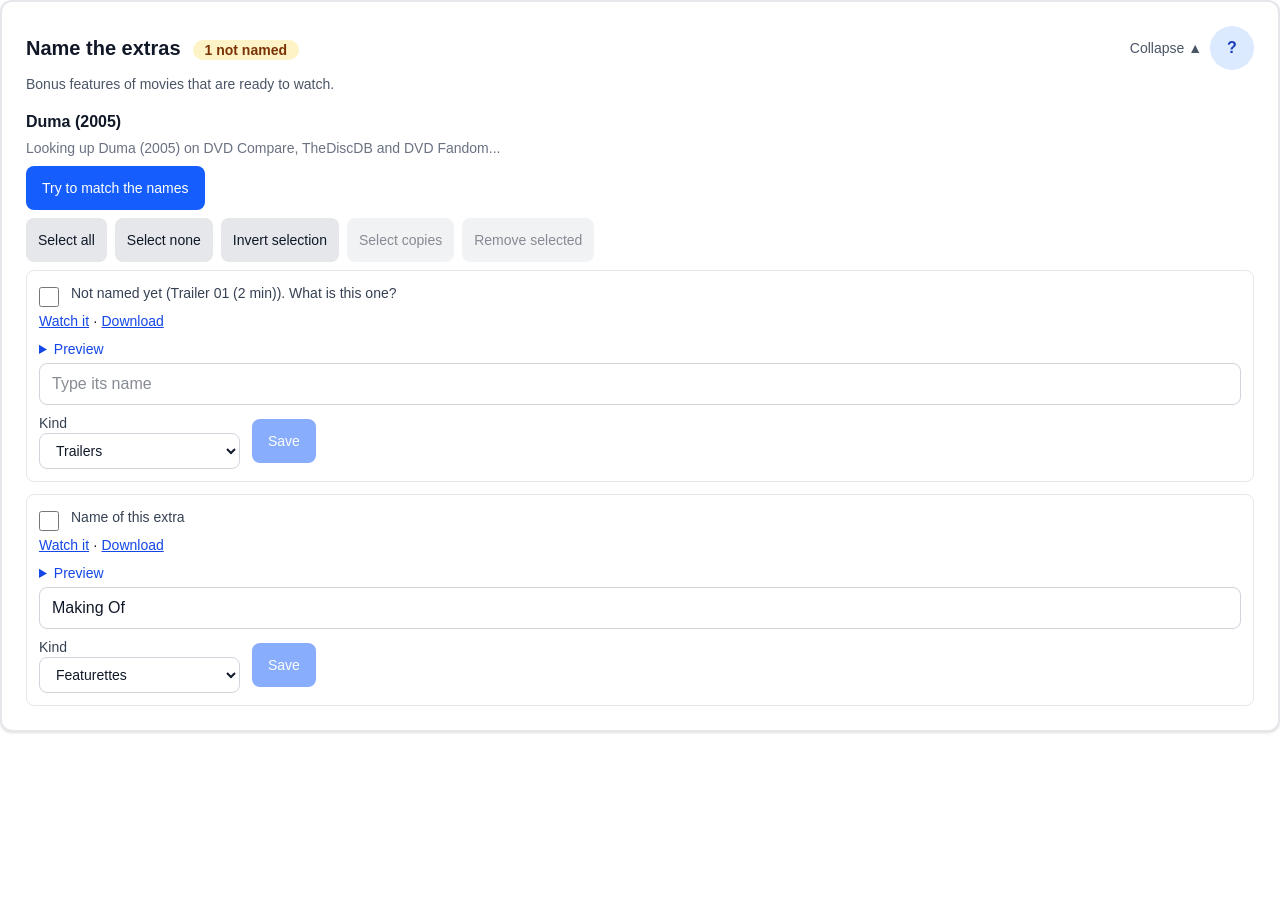
it: the "Name the extras" section › Try to match the names starts the listening and shows how far it has got
What coordinates should you click on to do the following:
click the button "Try to match the names"
I would click on:
 (115, 188)
Its box is [26,166,204,210].
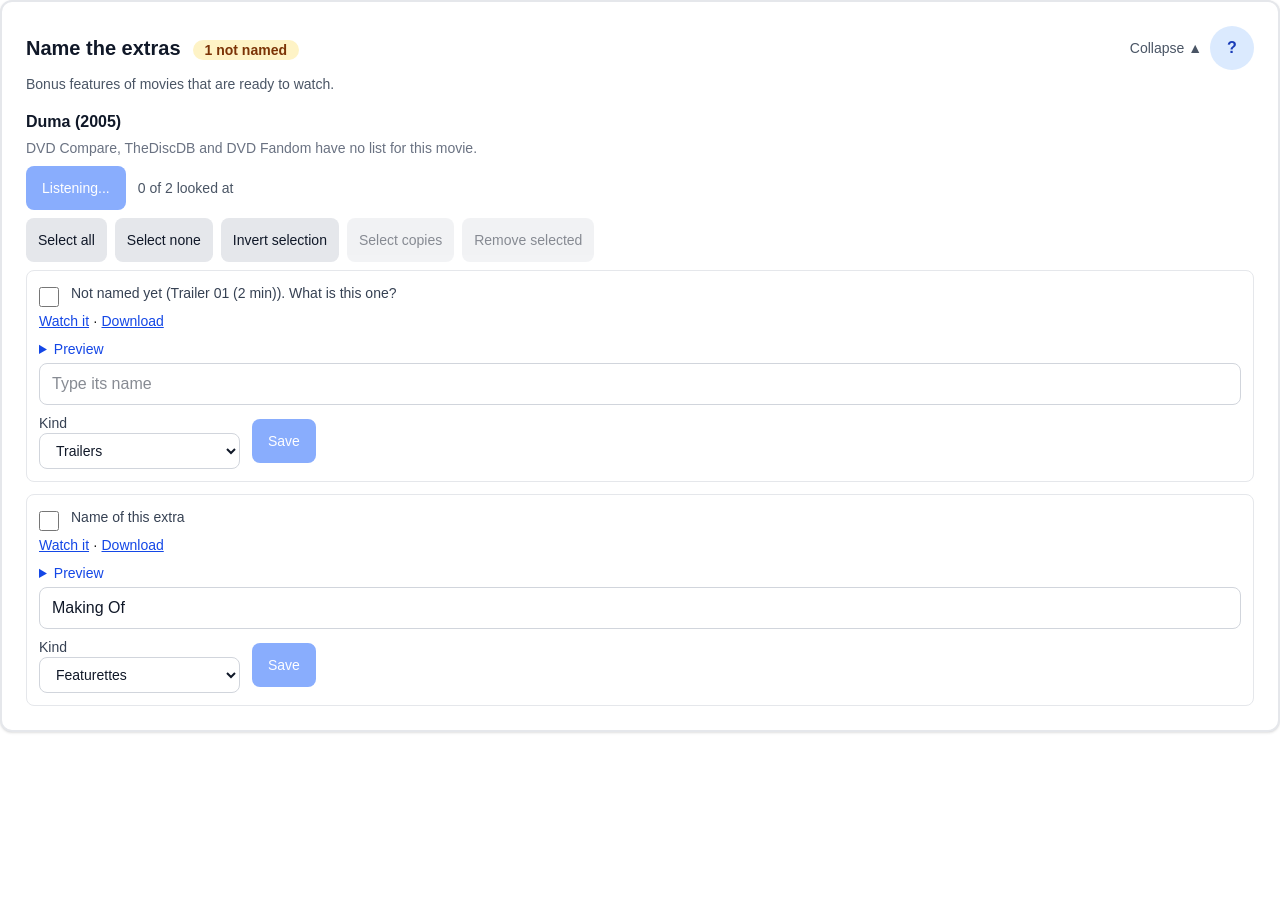
Result: the text "0 of 2 looked at" is shown at [138,180,234,196]
Result: the button "Listening..." is disabled at [26,166,126,210]
